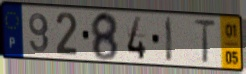2: (54, 11, 80, 59)
4: (125, 15, 148, 62)
8: (89, 10, 121, 63)
9: (27, 12, 50, 54)
I: (164, 15, 174, 65)
T: (192, 19, 218, 66)
